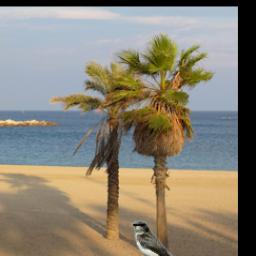Swallow: (131, 222, 190, 256)
